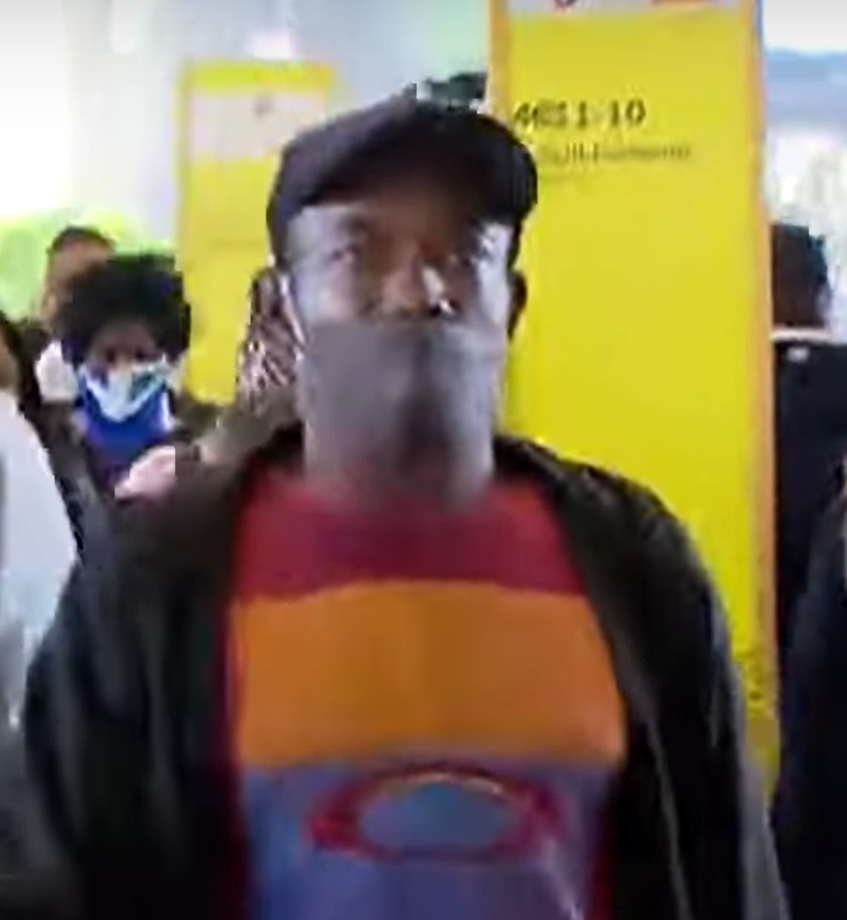mask_weared_incorrect: (248, 129, 556, 478)
